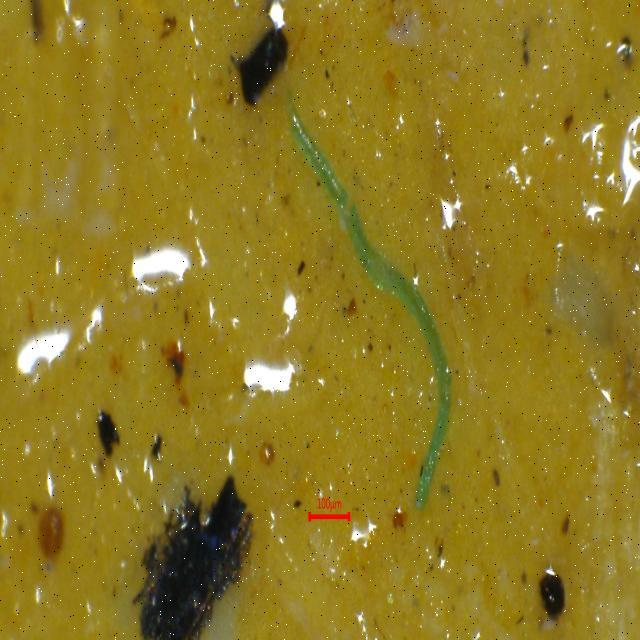fiber: (281, 93, 457, 521)
